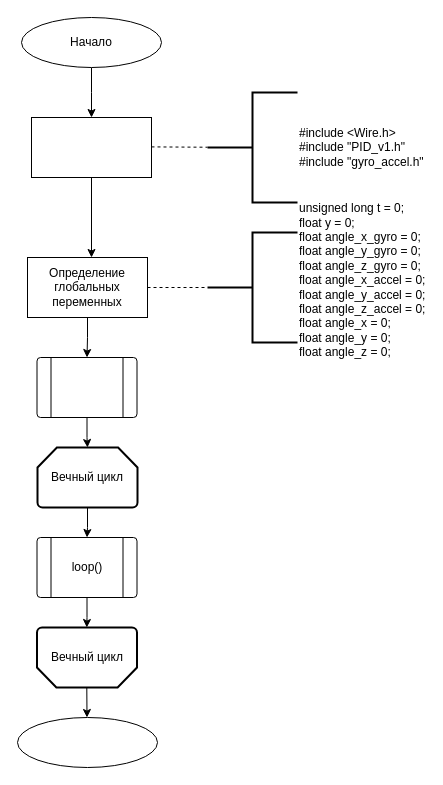
This 443x785 diagram has some shape labels left out. Here are the shapes that lost their labels. From the top down, the centre of each, then its label:
the point at 91,147: Подключение библиотек
the point at 86,387: setup()
the point at 87,742: Конец
